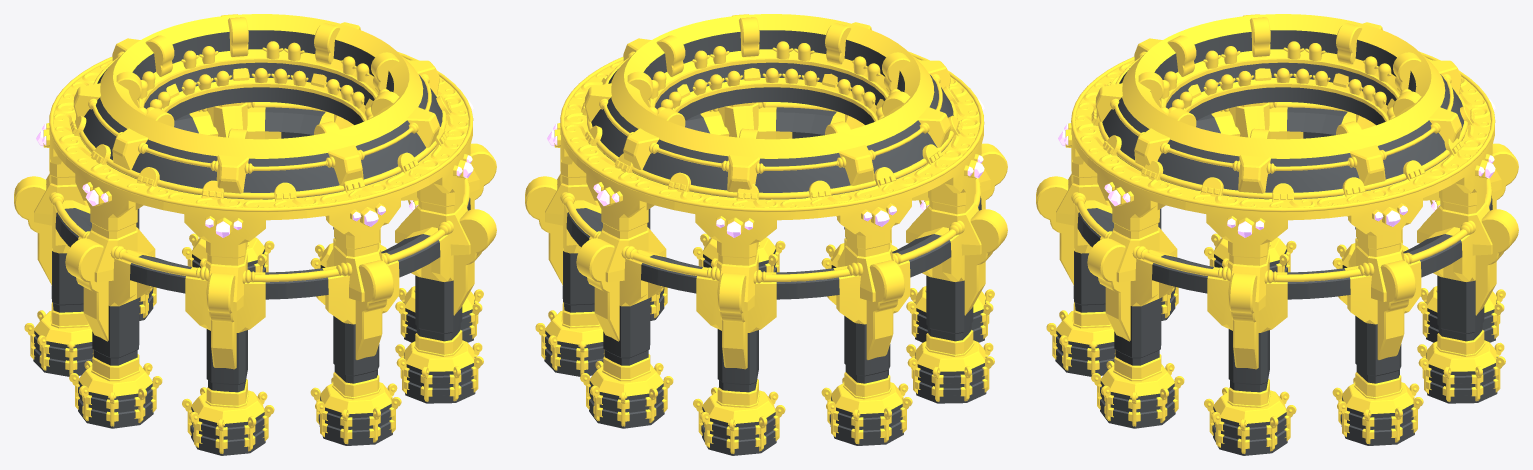
The model's file is religious_temple.fbx.
3 views of the same model, side by side, from view 1: azimuth 30°, elevation 25°; view 2: azimuth 150°, elevation 25°; view 3: azimuth 270°, elevation 25° (orthographic).
Parts seen in each view (by area): view 1: ceiling, tier1_pillars, tier2, pearlors, tier0_feet, rings, ridges, feet_staffs, shingles, gotchis3, swirlies, lick_heads (+3 smaller); view 2: ceiling, tier1_pillars, tier2, pearlors, tier0_feet, rings, ridges, feet_staffs, shingles, gotchis3, swirlies, lick_heads (+3 smaller); view 3: ceiling, tier1_pillars, tier2, pearlors, tier0_feet, rings, ridges, feet_staffs, shingles, gotchis3, swirlies, lick_heads (+3 smaller).
Boxes of the visible parts, left/top/right/bottom form: ceiling: left=81, top=14, right=442, bottom=199; tier1_pillars: left=50, top=107, right=470, bottom=407; tier2: left=34, top=59, right=479, bottom=311; pearlors: left=14, top=17, right=496, bottom=369; tier0_feet: left=33, top=237, right=475, bottom=455; rings: left=49, top=51, right=473, bottom=282; ridges: left=31, top=246, right=477, bottom=448; feet_staffs: left=24, top=233, right=483, bottom=453; shingles: left=73, top=14, right=439, bottom=193; gotchis3: left=138, top=41, right=389, bottom=120; swirlies: left=53, top=64, right=468, bottom=207; lick_heads: left=70, top=95, right=452, bottom=201; ceiling: left=591, top=14, right=953, bottom=199; tier1_pillars: left=561, top=107, right=981, bottom=407; tier2: left=545, top=59, right=990, bottom=311; pearlors: left=525, top=17, right=1007, bottom=369; tier0_feet: left=544, top=237, right=986, bottom=455; rings: left=560, top=51, right=984, bottom=282; ridges: left=542, top=246, right=988, bottom=448; feet_staffs: left=535, top=233, right=994, bottom=453; shingles: left=584, top=14, right=950, bottom=192; gotchis3: left=649, top=41, right=900, bottom=119; swirlies: left=564, top=59, right=979, bottom=207; lick_heads: left=581, top=69, right=963, bottom=201; ceiling: left=1102, top=14, right=1463, bottom=199; tier1_pillars: left=1072, top=107, right=1492, bottom=407; tier2: left=1056, top=58, right=1501, bottom=311; pearlors: left=1036, top=17, right=1518, bottom=369; tier0_feet: left=1055, top=237, right=1497, bottom=455; rings: left=1071, top=51, right=1495, bottom=282; ridges: left=1053, top=246, right=1499, bottom=448; feet_staffs: left=1046, top=233, right=1505, bottom=453; shingles: left=1095, top=14, right=1461, bottom=193; gotchis3: left=1160, top=41, right=1411, bottom=119; swirlies: left=1076, top=64, right=1490, bottom=207; lick_heads: left=1091, top=76, right=1474, bottom=201.
Size of the model in its own units: 32.25 by 20.78 by 31.76.
